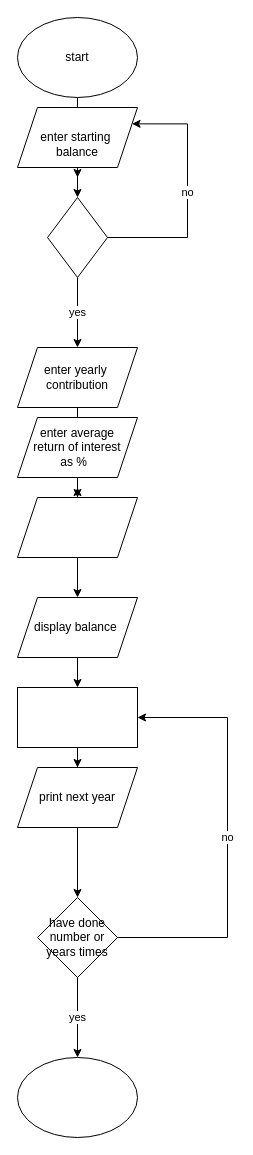
Image size: 253x1155. Some labels were removed from this diagram. The shapes that lost their labels are listed below. From the top down, each one's box as (x1, y1, x2, y2) in pixels, then its label:
(46, 196, 108, 278): are numbers valid
(16, 496, 138, 558): Enter number of years for the report.
(16, 686, 138, 748): math
(16, 1056, 138, 1138): done
